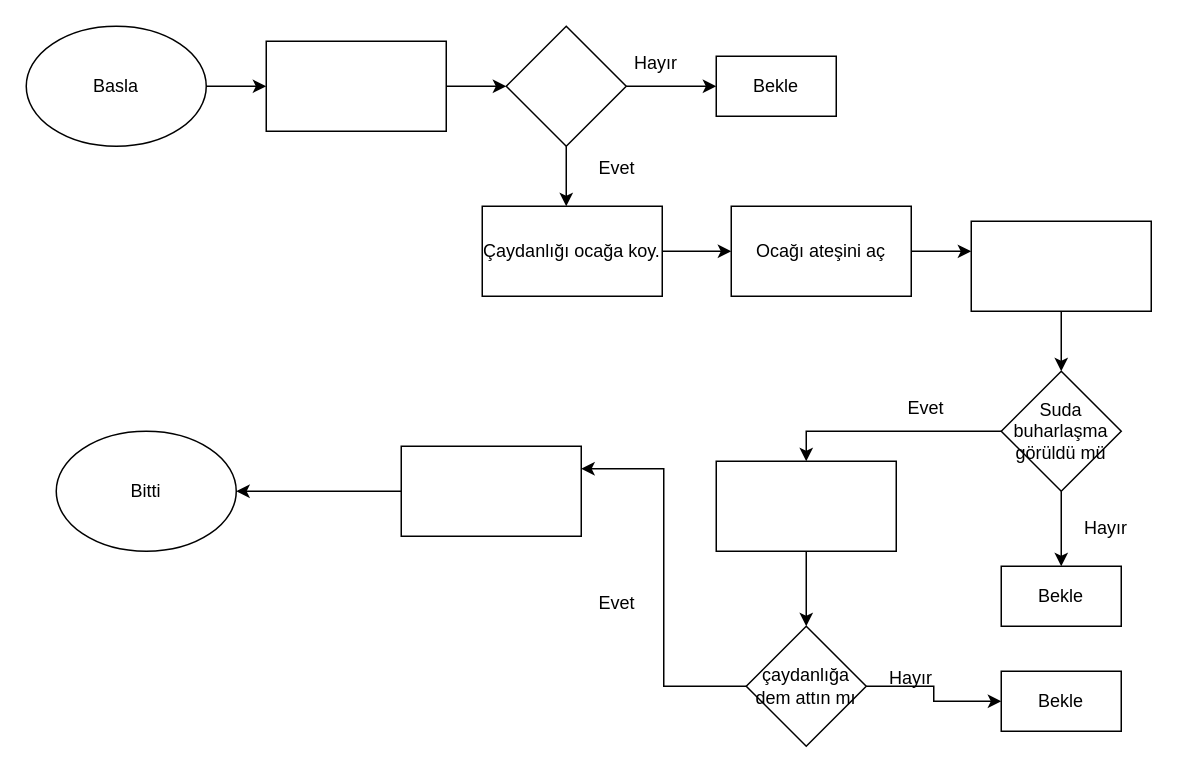
This 1178x773 diagram has some shape labels left out. The shapes that lost their labels are listed below. From the top down, each one's centre as x and y in pixels, then its label:
point (355, 85): Çaydanlık bul
point (565, 85): Çaydanlığı buldun mu?
point (1060, 265): Çaydanlıktaki su buharlaşma başlayıncaya kadar bekle
point (490, 490): 20 dk bekle ve sonra servise hazır ol
point (805, 505): Çaydanlığa 1 yemek kaşığı dem kat
